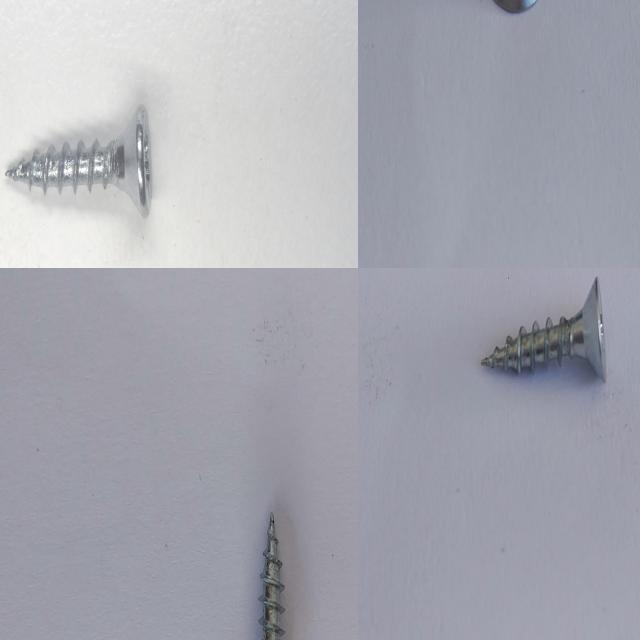Screw: (1, 102, 155, 224), (481, 276, 606, 381), (258, 511, 285, 640)
